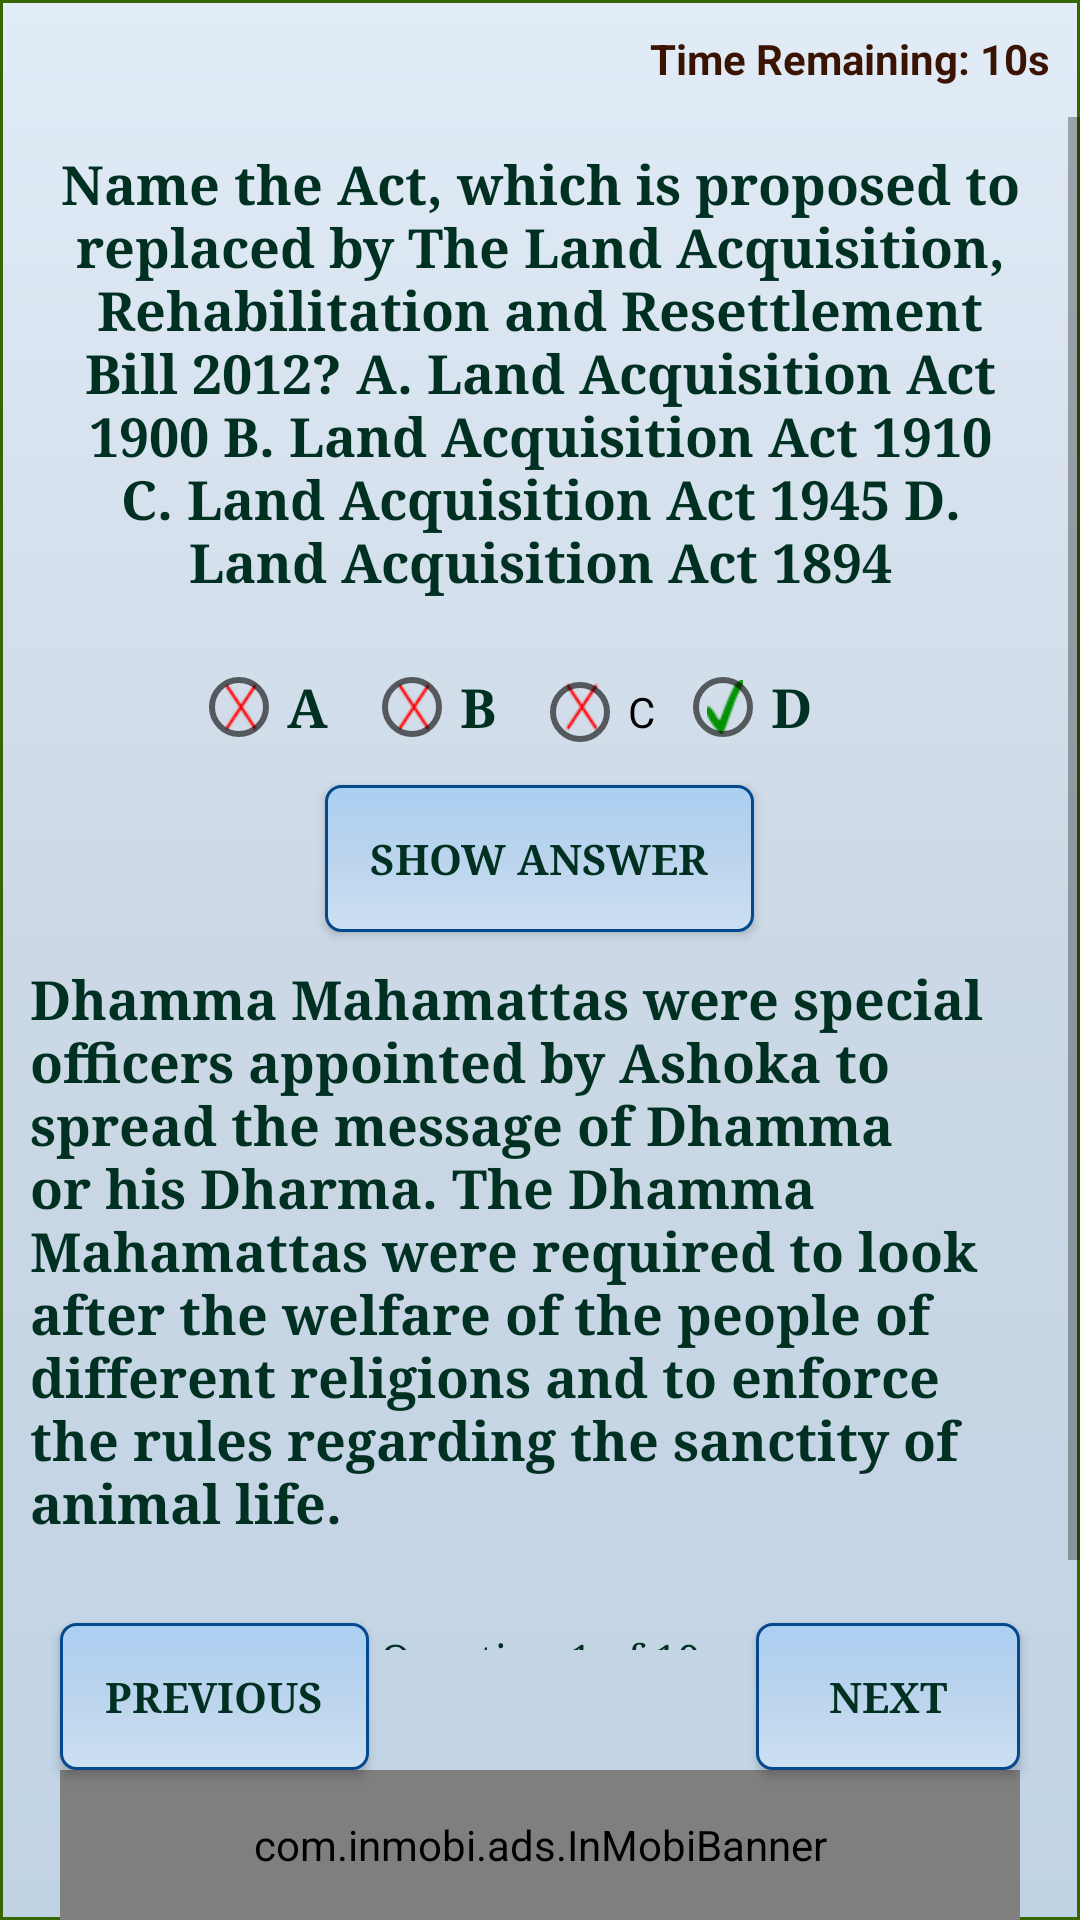

Named icons in this screenshot (1080x1920) and their centers, (x=x, y=y):
cross: (x=240, y=707), (x=413, y=707), (x=581, y=712)
tick: (x=724, y=707)
